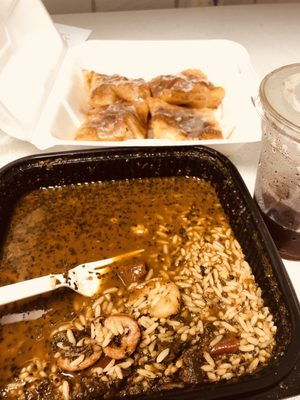pizza: (252, 61, 300, 261)
salad: (0, 248, 145, 315)
sushi: (1, 146, 297, 398)
